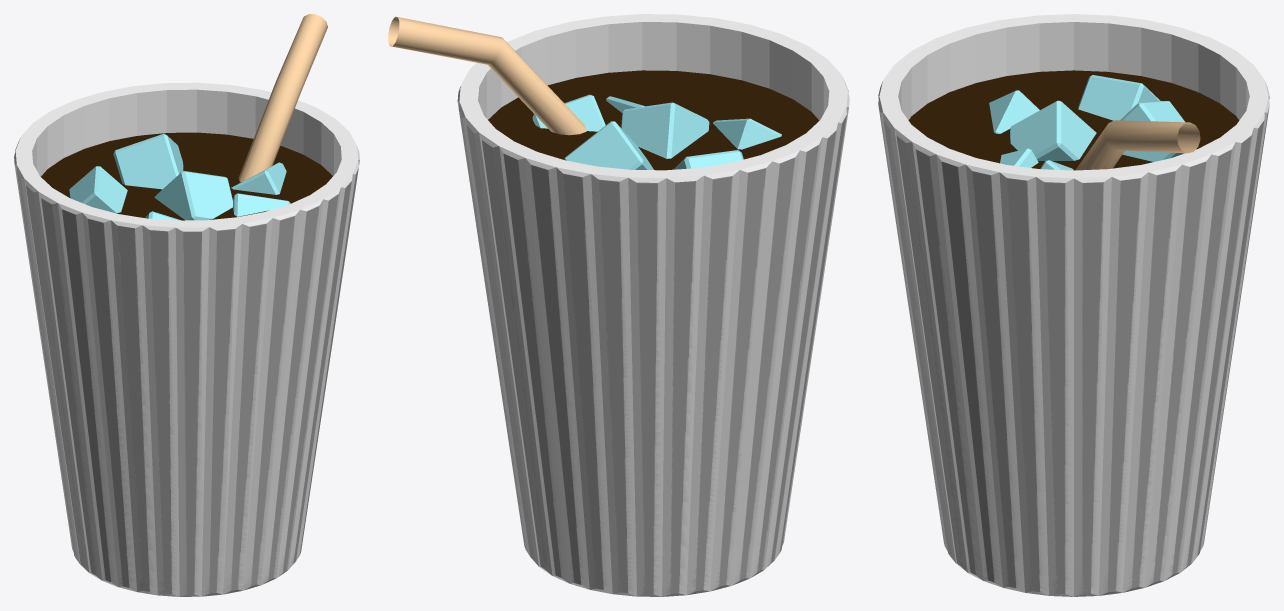
File: GlassUpdateWithWater.fbx
3 views of the same model, side by side, from view 1: azimuth 30°, elevation 25°; view 2: azimuth 150°, elevation 25°; view 3: azimuth 270°, elevation 25° (orthographic). The views are drawn at different scales.
Parts seen in each view (by area): view 1: Circle.008, Circle.004, NurbsPath; view 2: Circle.008, Circle.004, NurbsPath; view 3: Circle.008, Circle.004, NurbsPath.
Boxes of the visible parts, x1,y1,x2,y2 form: Circle.008: (14,82,359,596); Circle.004: (69,133,290,220); NurbsPath: (238,14,327,182); Circle.008: (457,14,849,596); Circle.004: (532,94,781,169); NurbsPath: (388,16,586,135); Circle.008: (878,14,1269,596); Circle.004: (989,75,1184,170); NurbsPath: (1075,120,1200,170).
Bounding box in the file's own units: 4.53 × 5.87 × 4.03.
Materials: 3 (1 with a texture image).
